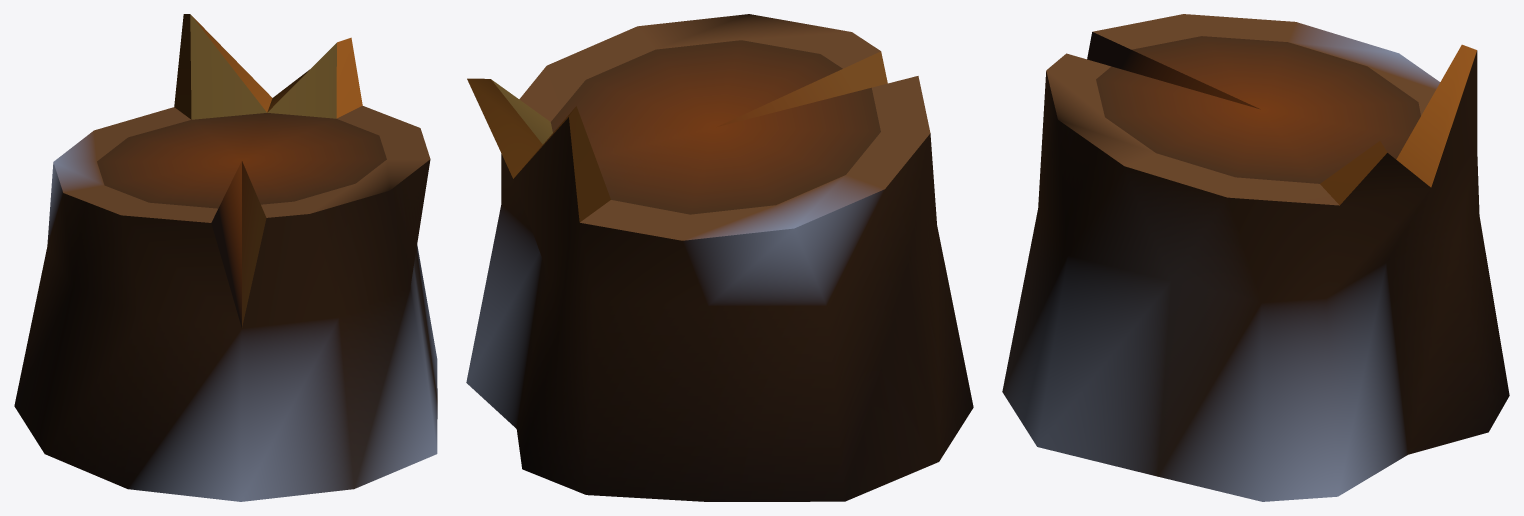
Rendered from Stump_03.fbx.
3 renders of one model, left to right at view 1: azimuth 30°, elevation 25°; view 2: azimuth 150°, elevation 25°; view 3: azimuth 270°, elevation 25°, orthographic. The views are drawn at different scales.
Visible parts, largest first — view 1: Stump_03; view 2: Stump_03; view 3: Stump_03.
Part boxes in pixels (x1,y1,x2,y2): Stump_03: (14,14,437,501); Stump_03: (466,14,973,501); Stump_03: (1002,14,1509,501).
Size of the model in its own units: 910 by 709 by 886.
